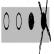correct: (28, 10, 35, 32)
not correct: (38, 0, 51, 54)
